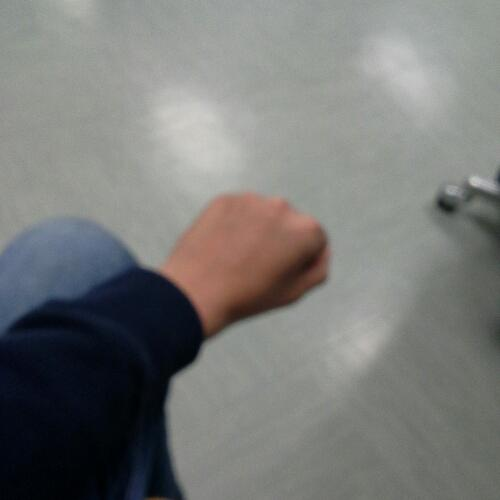rock: (162, 180, 342, 336)
